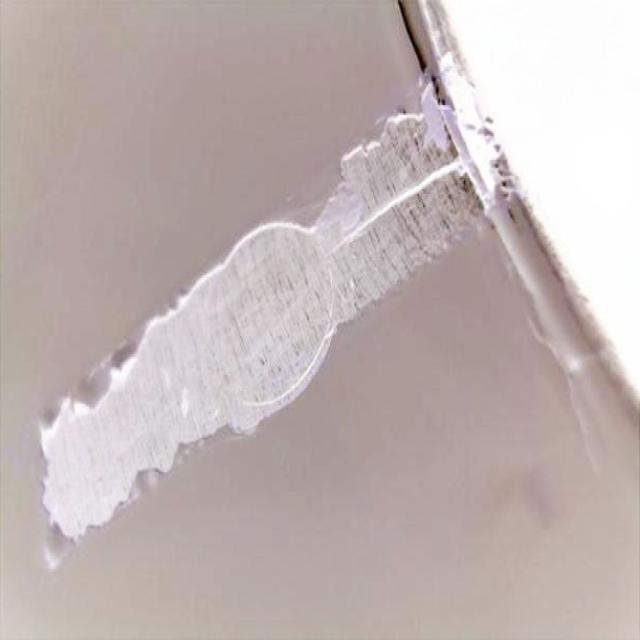Rupture: (282, 129, 520, 273)
